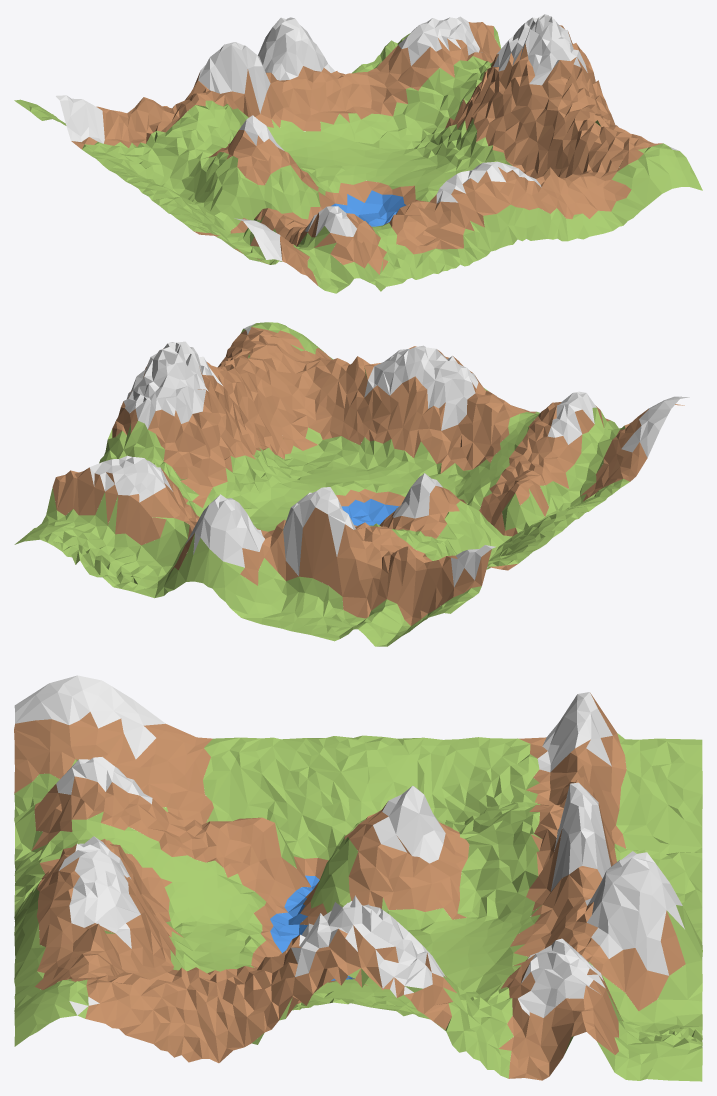
3 renders of one model, top to bottom at view 1: azimuth 30°, elevation 25°; view 2: azimuth 150°, elevation 25°; view 3: azimuth 270°, elevation 25°, orthographic. The views are drawn at different scales.
Visible parts, largest first — view 1: Grid; view 2: Grid; view 3: Grid.
Boxes of the visible parts, <box> form: Grid: <box>14,14,702,293</box>; Grid: <box>14,322,689,646</box>; Grid: <box>14,675,702,1081</box>.
Bounding box in the file's own units: 20.07 × 7.07 × 20.04.
